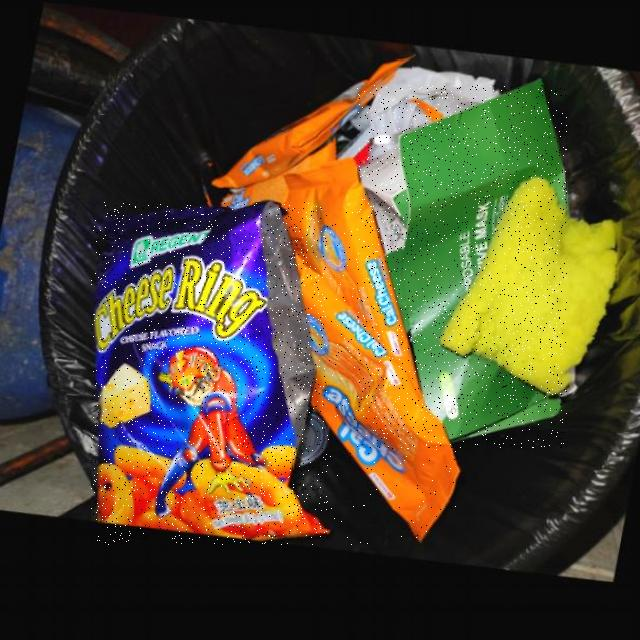metal: (294, 407, 329, 470)
paper: (358, 85, 567, 447)
wrapper: (92, 202, 327, 544), (281, 161, 460, 544), (209, 60, 412, 211)
